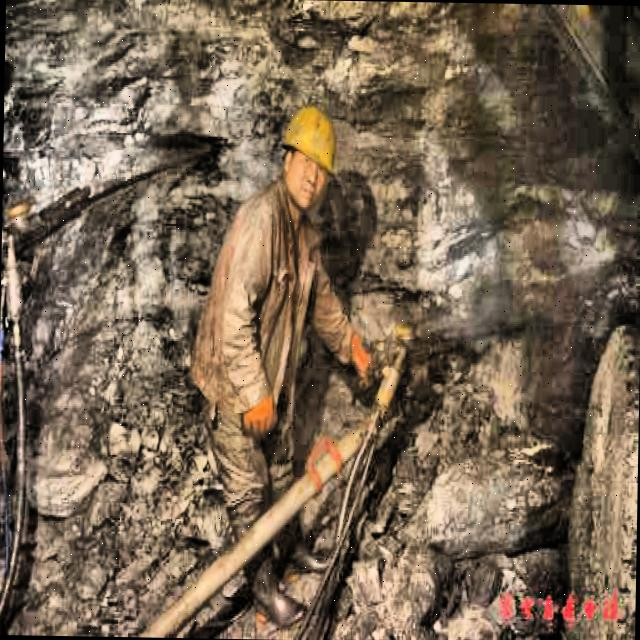helmet: (272, 97, 345, 219)
